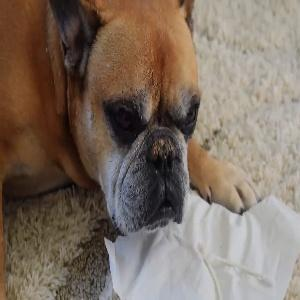keratosis: (145, 135, 178, 170)
